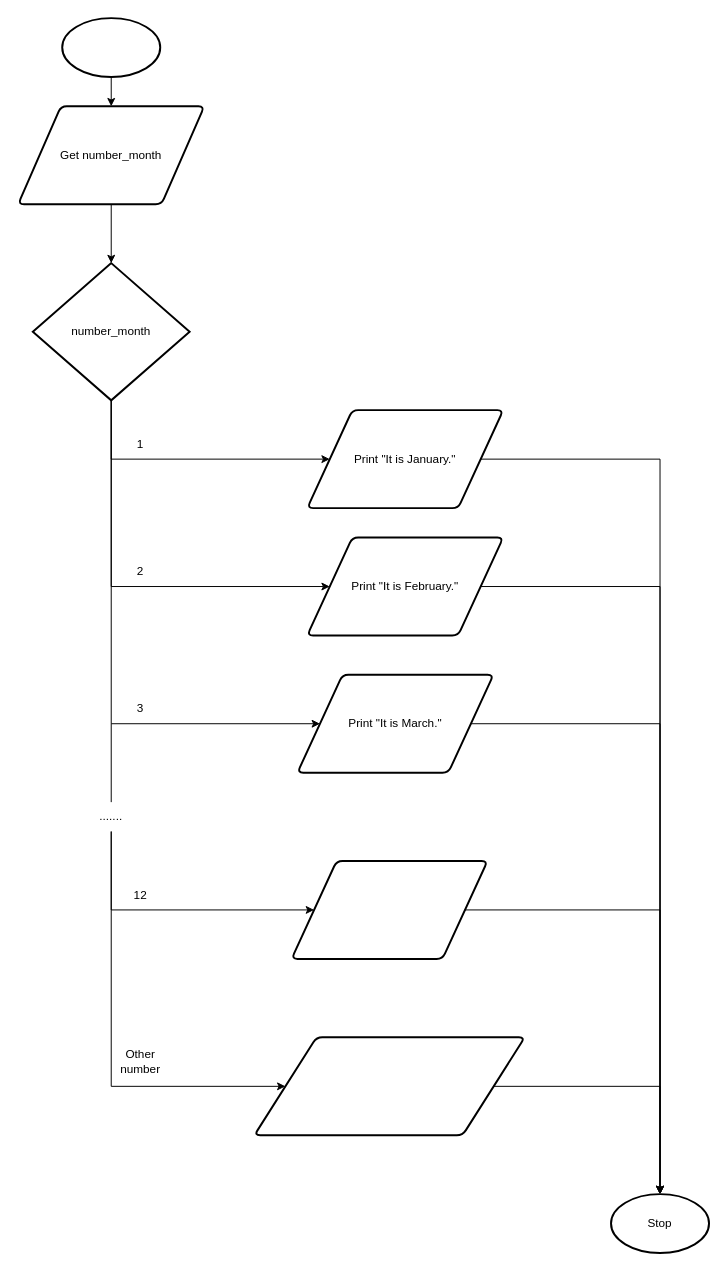
The diagram is 726 pixels wide and 1270 high, and some of its shapes have lost their labels. The shapes that lost their labels are listed below. From the top down, each one's box as (x1, y1, x2, y2) in pixels, then its label:
(61, 17, 161, 77): Start
(290, 859, 488, 959): Print "It is December."
(253, 1036, 525, 1136): Print "This is not a month number!"
